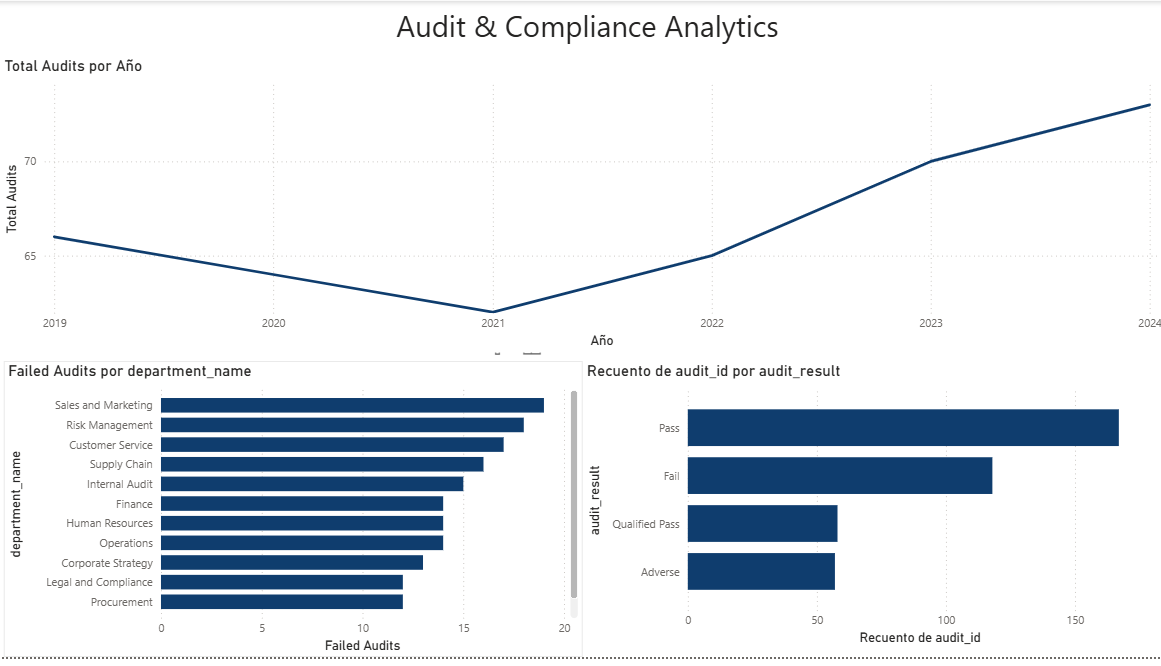

The page's visual inventory and layout, read from the dashboard file:
{"tool":"powerbi","page":{"name":"Audit & Compliance Analytics","canvas":[1280,720],"ordinal":2},"visuals":[{"type":"textbox","box":[9.6,0,1270.7,78.2],"z":0},{"type":"clusteredBarChart","fields":{"Category":["audits.audit_result"],"Y":["CountNonNull(audits.audit_id)"]},"box":[639.5,395.2,640.8,317],"z":1},{"type":"clusteredBarChart","fields":{"Category":["departments.department_name"],"Y":["Medidas.Failed Audits"]},"box":[4.1,395.2,635.3,325.2],"z":2},{"type":"lineChart","fields":{"Category":["audits.audit_date.Variación.Jerarquía de fechas.Año"],"Y":["Medidas.Total Audits"]},"box":[0,60.4,1280.3,325.2],"z":3}]}

Visuals, with their boxes in screenshot pixels (x1, y1, x2, y2), scaled from the page's 1280x720 canvas onto the 1161x666 screenshot:
textbox: crop(9, 0, 1160, 72)
clusteredBarChart - audits.audit_result x CountNonNull(audits.audit_id): crop(580, 366, 1160, 659)
clusteredBarChart - departments.department_name x Medidas.Failed Audits: crop(4, 366, 580, 665)
lineChart - audits.audit_date.Variación.Jerarquía de fechas.Año x Medidas.Total Audits: crop(0, 56, 1160, 357)
